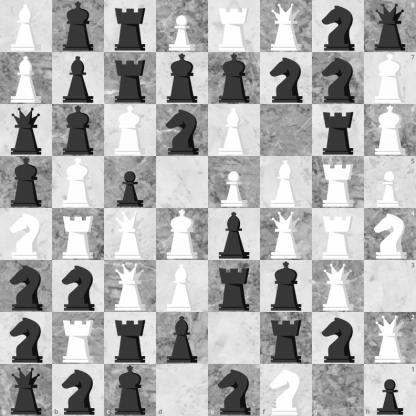B: (1, 1, 52, 52), (1, 53, 52, 104), (157, 261, 208, 312), (209, 105, 260, 156), (261, 157, 312, 208)
K: (364, 52, 416, 104), (364, 104, 416, 156), (53, 157, 104, 208), (105, 105, 156, 156), (157, 209, 208, 260)
N: (260, 364, 312, 416), (364, 209, 416, 260), (1, 209, 52, 260)
P: (364, 156, 416, 209), (157, 1, 208, 52), (209, 157, 260, 208)
Q: (364, 312, 416, 364), (105, 209, 156, 260), (105, 261, 156, 312), (261, 1, 312, 52), (261, 209, 312, 260), (313, 261, 364, 312)
R: (53, 209, 104, 260), (53, 313, 104, 364), (209, 1, 260, 52), (313, 157, 364, 208), (313, 209, 364, 260)
b: (53, 53, 104, 104), (157, 313, 208, 364), (209, 209, 260, 260)
board: (0, 0, 415, 415)
k: (104, 364, 156, 416), (1, 157, 52, 208), (53, 1, 104, 52), (53, 105, 104, 156), (157, 53, 208, 104), (209, 53, 260, 104), (261, 261, 312, 312)
n: (52, 364, 104, 416), (209, 364, 260, 416), (1, 261, 52, 312), (1, 313, 52, 364), (53, 261, 104, 312), (157, 105, 208, 156), (261, 53, 312, 104), (313, 1, 364, 52), (313, 53, 364, 104), (313, 313, 364, 364)
p: (364, 364, 416, 416), (105, 157, 156, 208)
q: (0, 364, 52, 416), (364, 0, 416, 52), (1, 105, 52, 156)
r: (105, 1, 156, 52), (105, 53, 156, 104), (105, 313, 156, 364), (209, 261, 260, 312), (261, 313, 312, 364), (313, 105, 364, 156)
